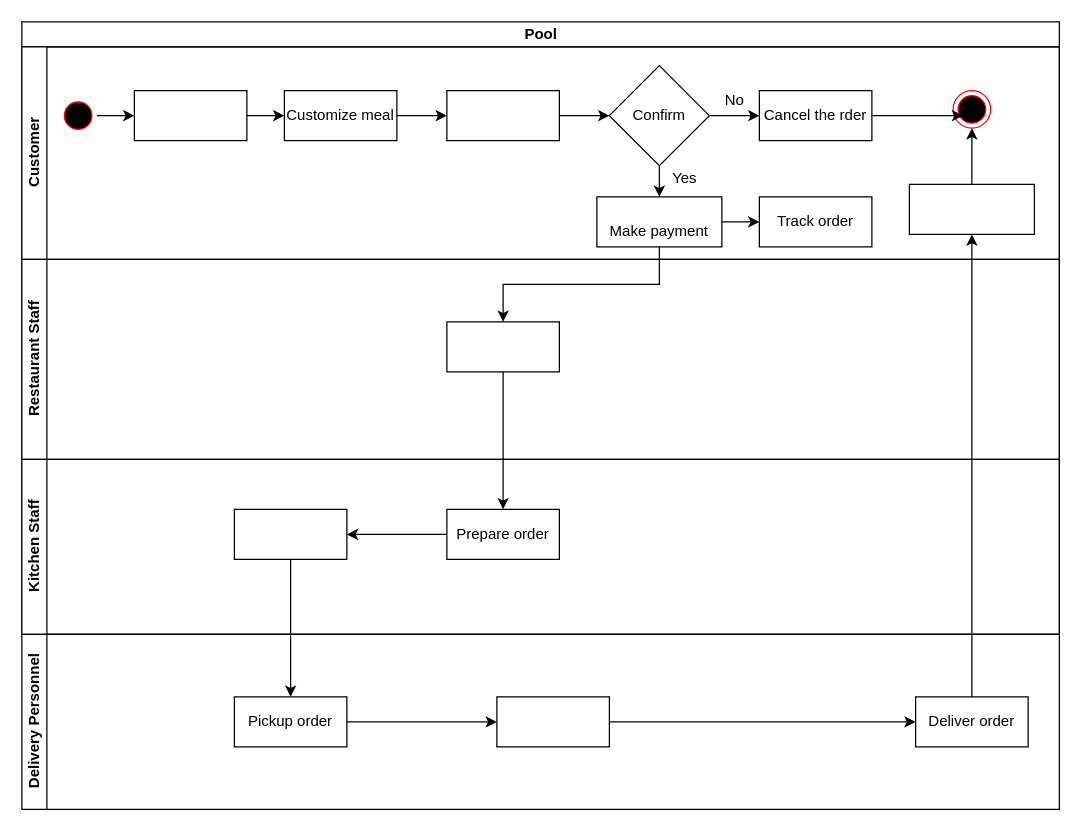
The diagram is 1081 pixels wide and 831 high, and some of its shapes have lost their labels. Each missing label, with the centre of its shape:
"Browser menu" belongs at [190,115].
"Place order" belongs at [502,115].
"Provide Feedback(optional)" belongs at [971,208].
"Review order" belongs at [502,346].
"Update delivery status" belongs at [552,721].
"Update order status" belongs at [290,533].
